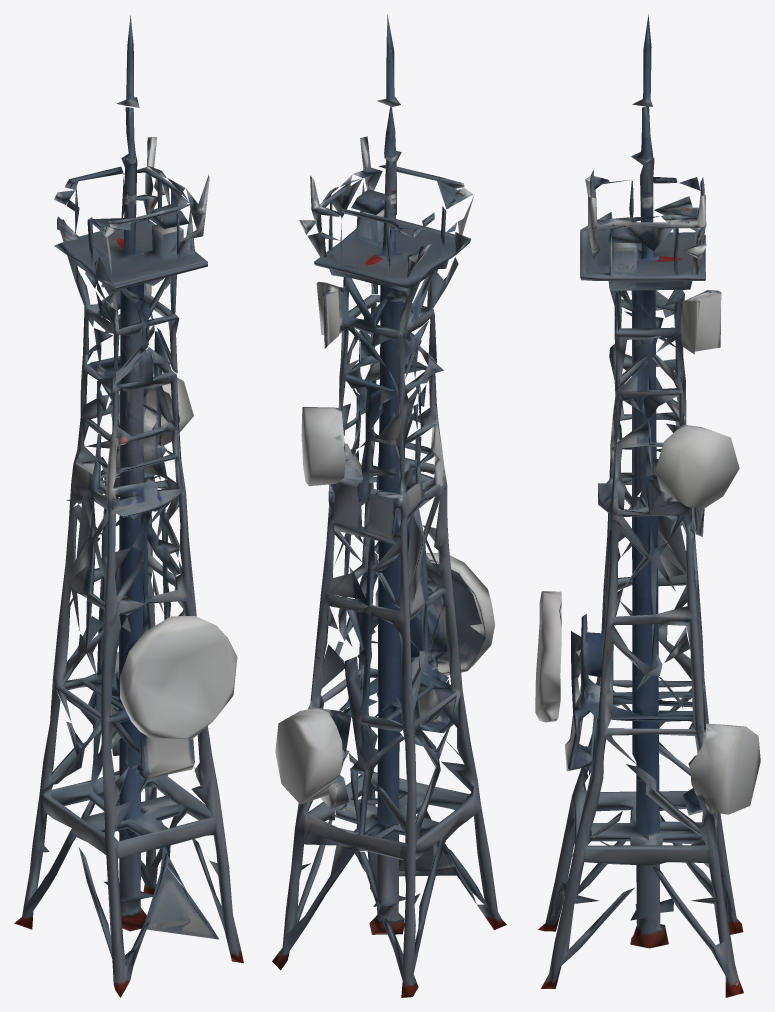
The model's file is antenna.glb.
3 views of the same model, side by side, from view 1: azimuth 30°, elevation 25°; view 2: azimuth 150°, elevation 25°; view 3: azimuth 270°, elevation 25° (orthographic). The views are drawn at different scales.
Visible parts, largest first — view 1: tripo_node_422a9932-e68b-4d39-9f88-4f165951aff1; view 2: tripo_node_422a9932-e68b-4d39-9f88-4f165951aff1; view 3: tripo_node_422a9932-e68b-4d39-9f88-4f165951aff1.
Boxes of the visible parts, <box> form: tripo_node_422a9932-e68b-4d39-9f88-4f165951aff1: <box>14,15,243,997</box>; tripo_node_422a9932-e68b-4d39-9f88-4f165951aff1: <box>272,15,506,997</box>; tripo_node_422a9932-e68b-4d39-9f88-4f165951aff1: <box>535,14,760,997</box>.
Bounding box in the file's own units: 0.1634 × 0.9872 × 0.2124.
1 material, 1 textured.
